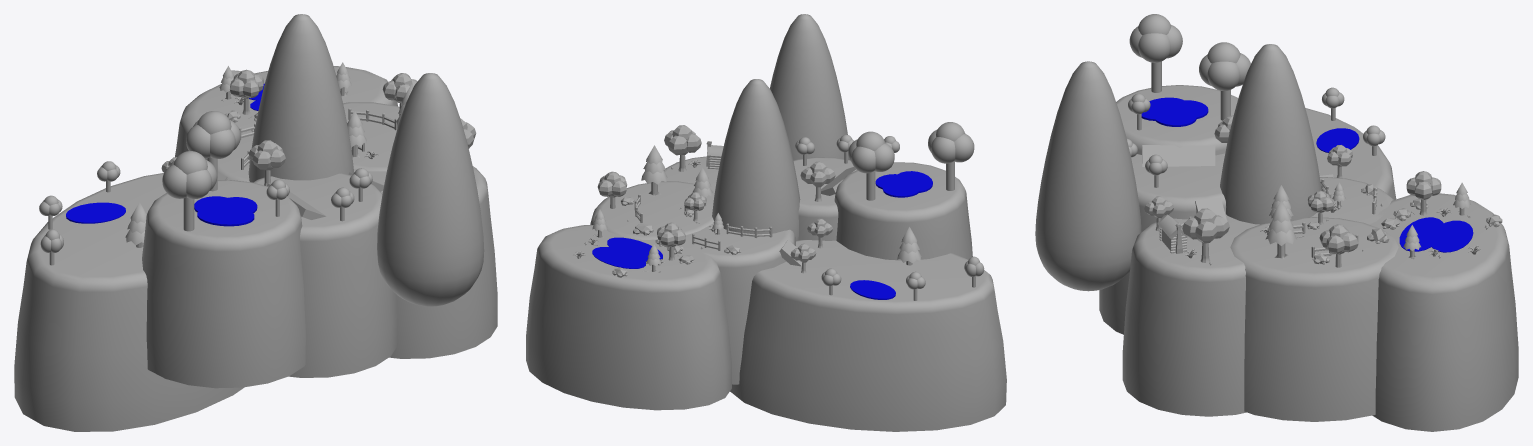
The model's file is Forest Landscape FBX.fbx.
3 renders of one model, left to right at view 1: azimuth 30°, elevation 25°; view 2: azimuth 150°, elevation 25°; view 3: azimuth 270°, elevation 25°, orthographic. The views are drawn at different scales.
Parts seen in each view (by area): view 1: pCylinder8, pCylinder6, pSphere31, pCylinder2, pSphere1, pCylinder21, pCylinder19, pSphere23, pCylinder20, pSphere24, pCylinder18, pCylinder22 (+9 smaller); view 2: pCylinder8, pCylinder19, pSphere1, pCylinder6, pSphere31, pCylinder22, pCylinder20, pCylinder2, pSphere24, pSphere23, pCylinder26, pSphere39 (+8 smaller); view 3: pCylinder19, pCylinder20, pCylinder21, pSphere31, pSphere1, pCylinder2, pCylinder6, pCylinder8, pSphere23, pSphere24, pCylinder22, pCylinder26 (+13 smaller).
Boxes of the visible parts, left/top/right/bottom form: pCylinder8: left=14, top=173, right=244, bottom=431; pCylinder6: left=142, top=180, right=305, bottom=388; pSphere31: left=377, top=73, right=484, bottom=306; pCylinder2: left=253, top=173, right=397, bottom=377; pSphere1: left=248, top=14, right=354, bottom=182; pCylinder21: left=354, top=166, right=497, bottom=358; pCylinder19: left=175, top=66, right=397, bottom=157; pSphere23: left=162, top=151, right=217, bottom=231; pCylinder20: left=343, top=102, right=399, bottom=171; pSphere24: left=186, top=111, right=240, bottom=191; pCylinder18: left=66, top=202, right=125, bottom=223; pCylinder22: left=205, top=130, right=253, bottom=181; pCylinder8: left=730, top=240, right=1006, bottom=431; pCylinder19: left=526, top=225, right=731, bottom=410; pSphere1: left=712, top=79, right=800, bottom=241; pCylinder6: left=834, top=162, right=972, bottom=260; pSphere31: left=770, top=14, right=849, bottom=160; pCylinder22: left=685, top=223, right=795, bottom=384; pCylinder20: left=590, top=181, right=714, bottom=239; pCylinder2: left=793, top=157, right=853, bottom=240; pSphere24: left=848, top=131, right=894, bottom=200; pSphere23: left=928, top=122, right=974, bottom=190; pCylinder26: left=592, top=237, right=662, bottom=268; pSphere39: left=664, top=125, right=701, bottom=171; pCylinder19: left=1370, top=193, right=1518, bottom=431; pCylinder20: left=1230, top=217, right=1398, bottom=421; pCylinder21: left=1122, top=214, right=1259, bottom=416; pSphere31: left=1035, top=61, right=1141, bottom=291; pSphere1: left=1220, top=44, right=1321, bottom=224; pCylinder2: left=1099, top=153, right=1225, bottom=334; pCylinder6: left=1116, top=85, right=1238, bottom=155; pCylinder8: left=1305, top=108, right=1396, bottom=199; pSphere23: left=1129, top=14, right=1182, bottom=92; pSphere24: left=1199, top=42, right=1250, bottom=120; pCylinder22: left=1310, top=177, right=1393, bottom=224; pCylinder26: left=1399, top=217, right=1473, bottom=252.
Bounding box in the file's own units: 62.24 × 42.57 × 57.24.
